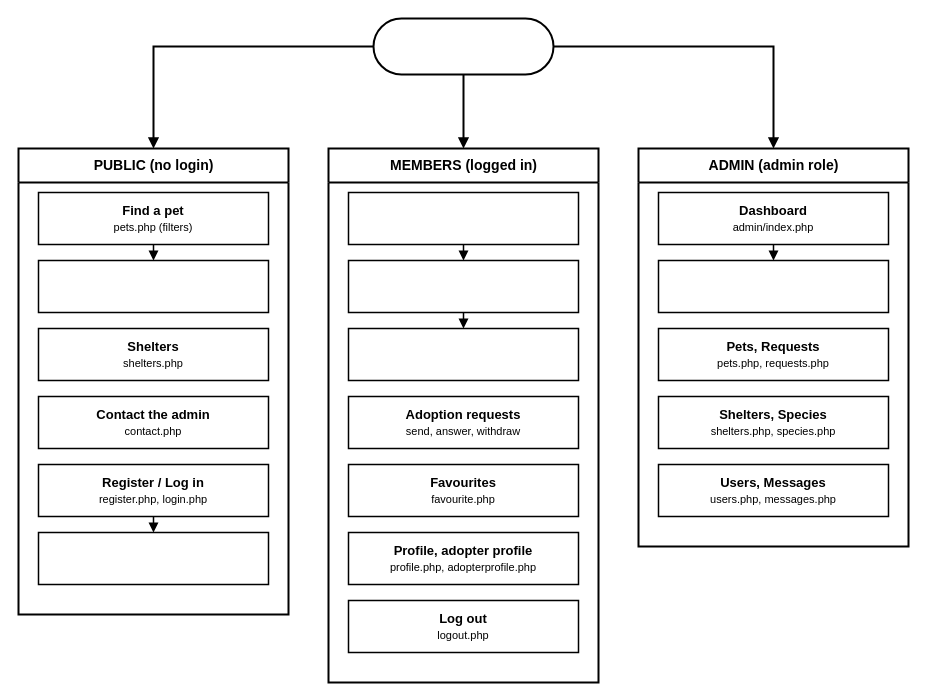
Some shapes in this 926 by 700 pixel diagram are drawn without their labels. Here are the shapes that lost their labels. From the top down, the centre of each, then its label:
At point 463,46: "Home index.php".
At point 463,218: "My account myaccount.php".
At point 153,286: "Pet details pet.php".
At point 463,286: "Rehome a pet addpet.php".
At point 773,286: "Review listings approvals.php".
At point 463,354: "Edit / delete my pet editpet.php, deletepet.php".
At point 153,558: "Forgot password forgotpassword.php, resetpassword.php".
